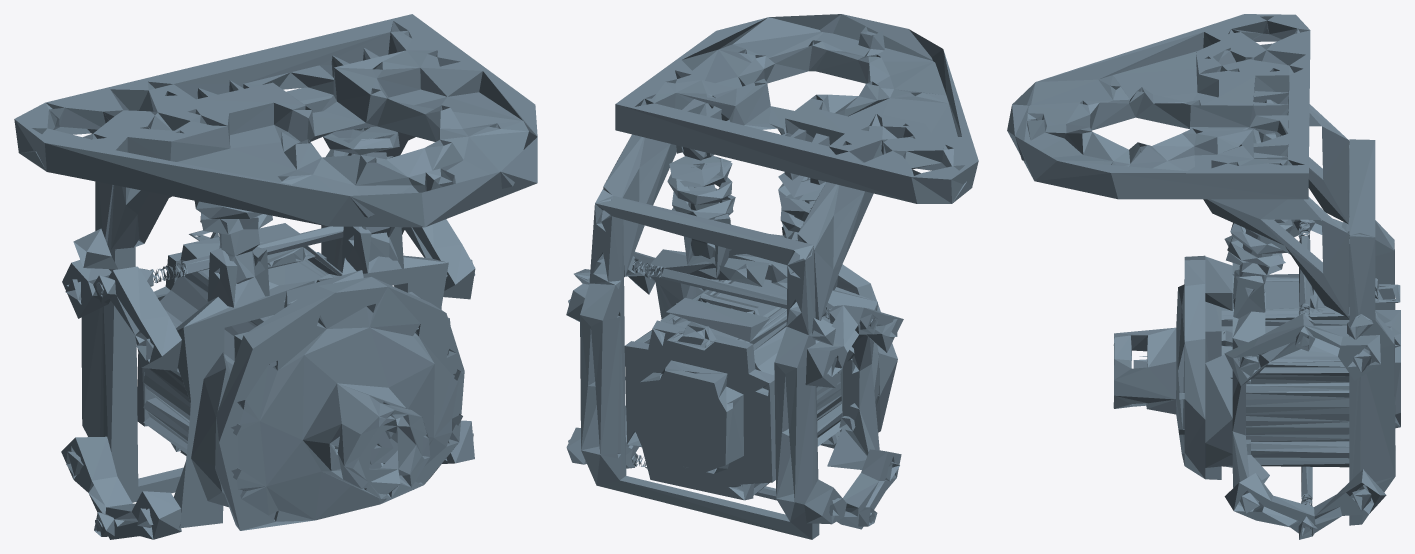
Rendered from steer_RL.dae.
3 views of the same model, side by side, from view 1: azimuth 30°, elevation 25°; view 2: azimuth 150°, elevation 25°; view 3: azimuth 270°, elevation 25° (orthographic). The views are drawn at different scales.
Visible parts, largest first — view 1: node; view 2: node; view 3: node.
Boxes of the visible parts, x1,y1,x2,y2 form: node: (14,14,537,539); node: (566,14,978,539); node: (1007,14,1400,539).
Size of the model in its own units: 0.3098 by 0.3021 by 0.3061.
